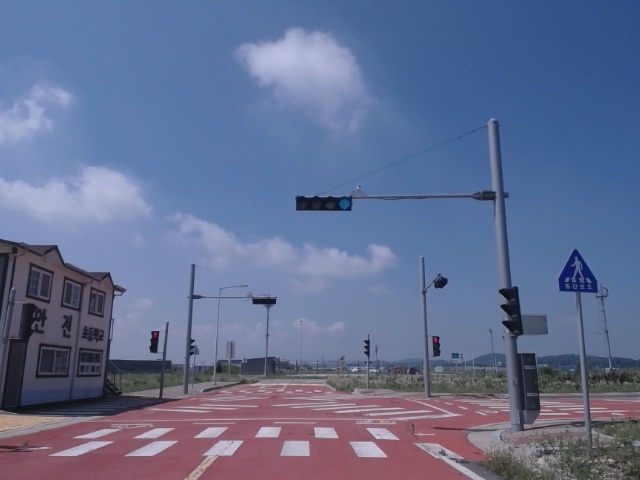straight_green_4: (294, 195, 355, 214)
